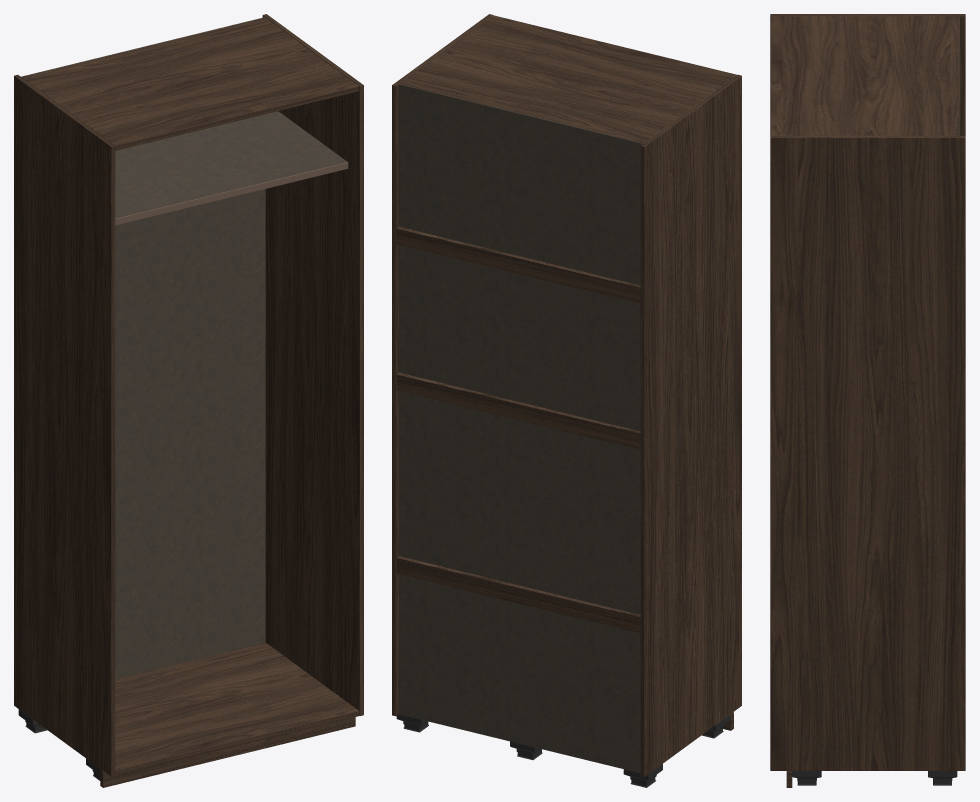
3 views of the same model, side by side, from view 1: azimuth 30°, elevation 25°; view 2: azimuth 150°, elevation 25°; view 3: azimuth 270°, elevation 25° (orthographic).
Visible parts, largest first — view 1: HK1001017; view 2: HK1001017; view 3: HK1001017.
Boxes of the visible parts, bbox=[...] form: HK1001017: bbox=[14, 14, 363, 787]; HK1001017: bbox=[392, 14, 741, 787]; HK1001017: bbox=[770, 14, 965, 787].
Size of the model in its own units: 0.9 by 2.2 by 0.6.
6 materials, 5 textured.
